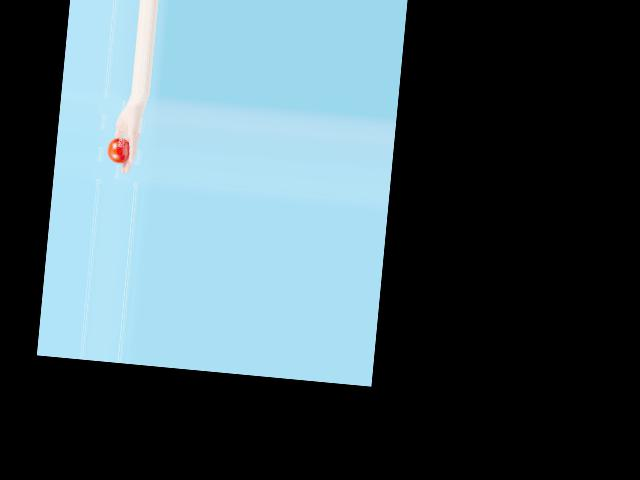tomato: (106, 136, 130, 164)
